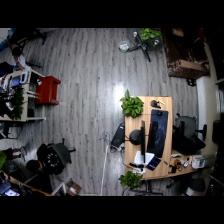normal: (24, 142, 71, 179), (10, 45, 33, 75)
